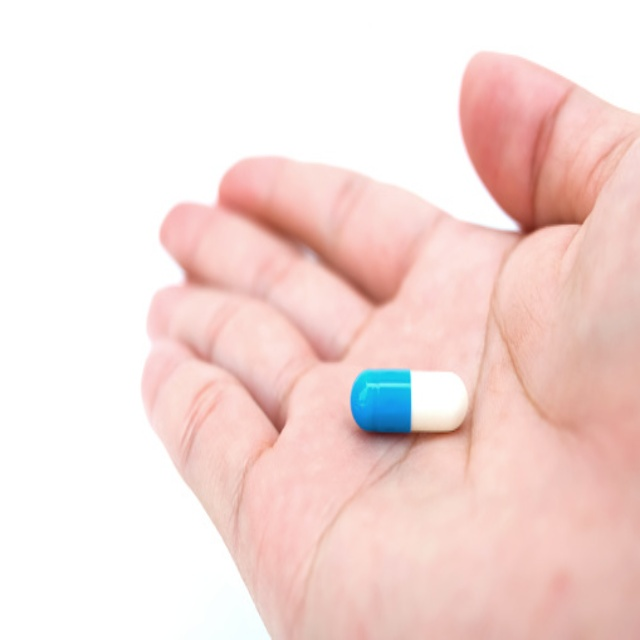pill: (277, 194, 372, 234)
